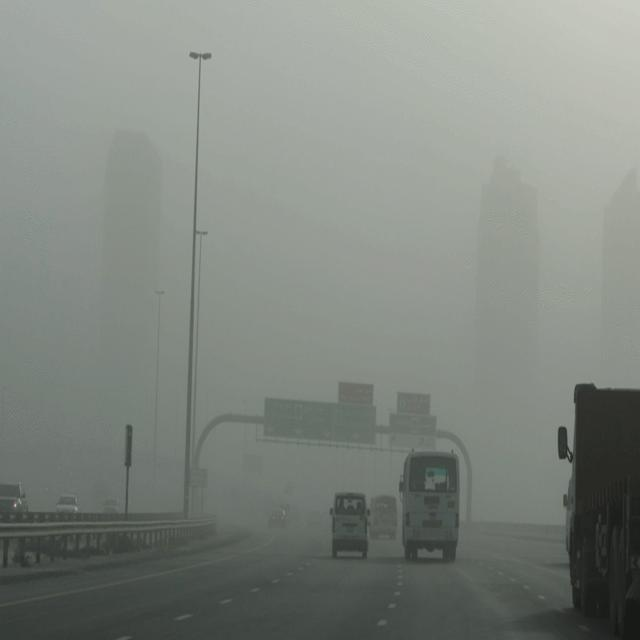bus: (564, 386, 640, 626)
car: (329, 492, 368, 558), (2, 479, 30, 511), (52, 490, 78, 516), (266, 506, 286, 528), (100, 493, 120, 510)
truck: (399, 442, 463, 562), (369, 494, 397, 538)
